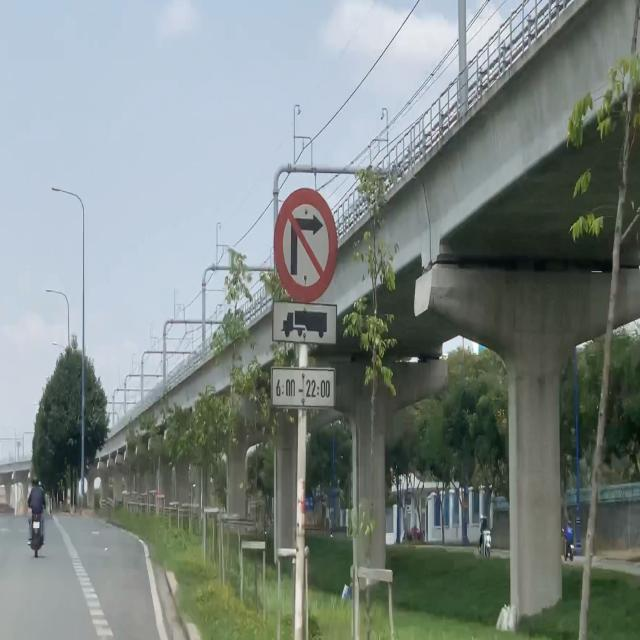Cam re phai: (273, 187, 338, 305)
